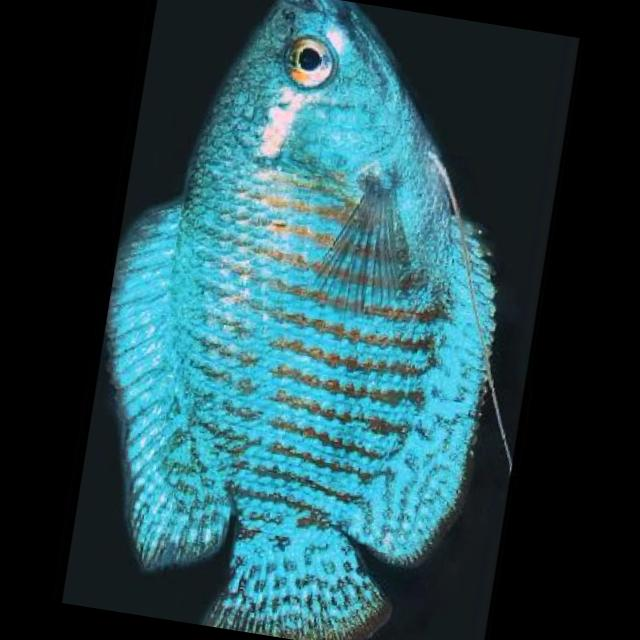Gourami: (58, 0, 555, 640)
